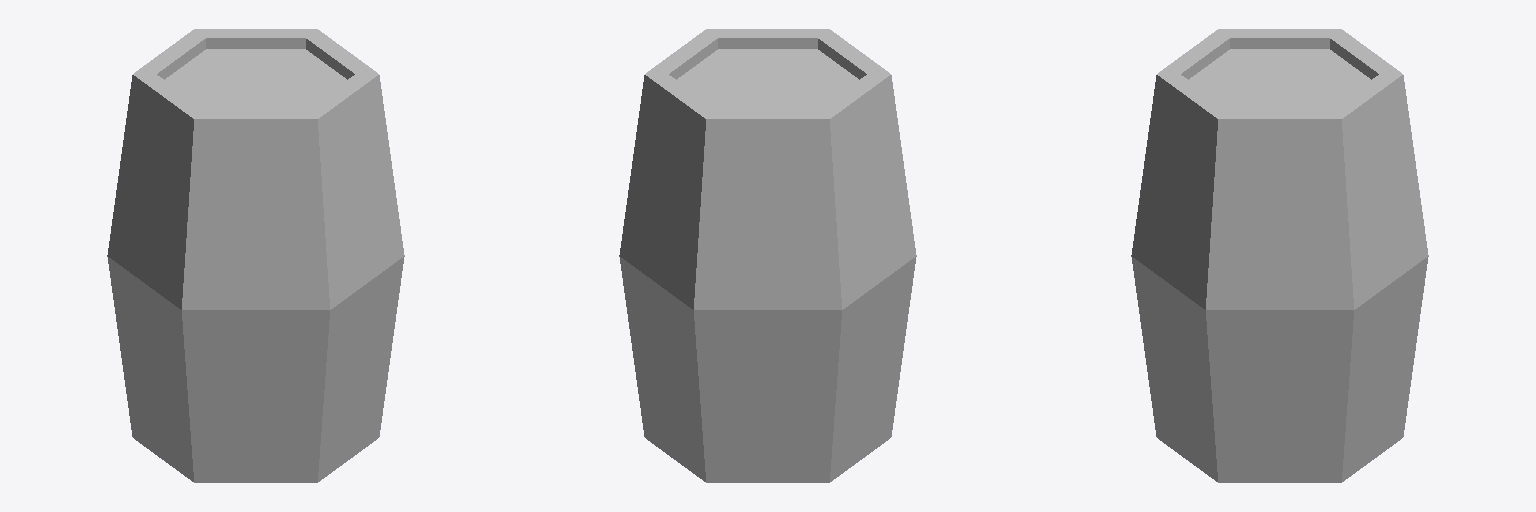
The model's file is barrel.obj.
The picture shows the model from 3 angles: view 1: azimuth 30°, elevation 25°; view 2: azimuth 150°, elevation 25°; view 3: azimuth 270°, elevation 25°; orthographic projection.
Parts seen in each view (by area): view 1: Cube.008_Cube.021; view 2: Cube.008_Cube.021; view 3: Cube.008_Cube.021.
Part boxes in pixels (x1,y1,x2,y2): Cube.008_Cube.021: (107, 29, 404, 482); Cube.008_Cube.021: (619, 29, 916, 482); Cube.008_Cube.021: (1131, 29, 1428, 482).
Bounding box in the file's own units: 2.08 × 3.25 × 2.41.